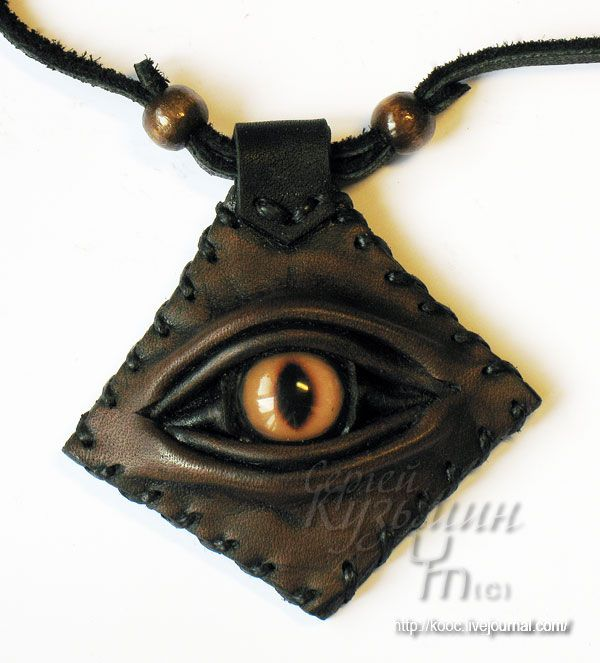cuero: (62, 116, 547, 621)
